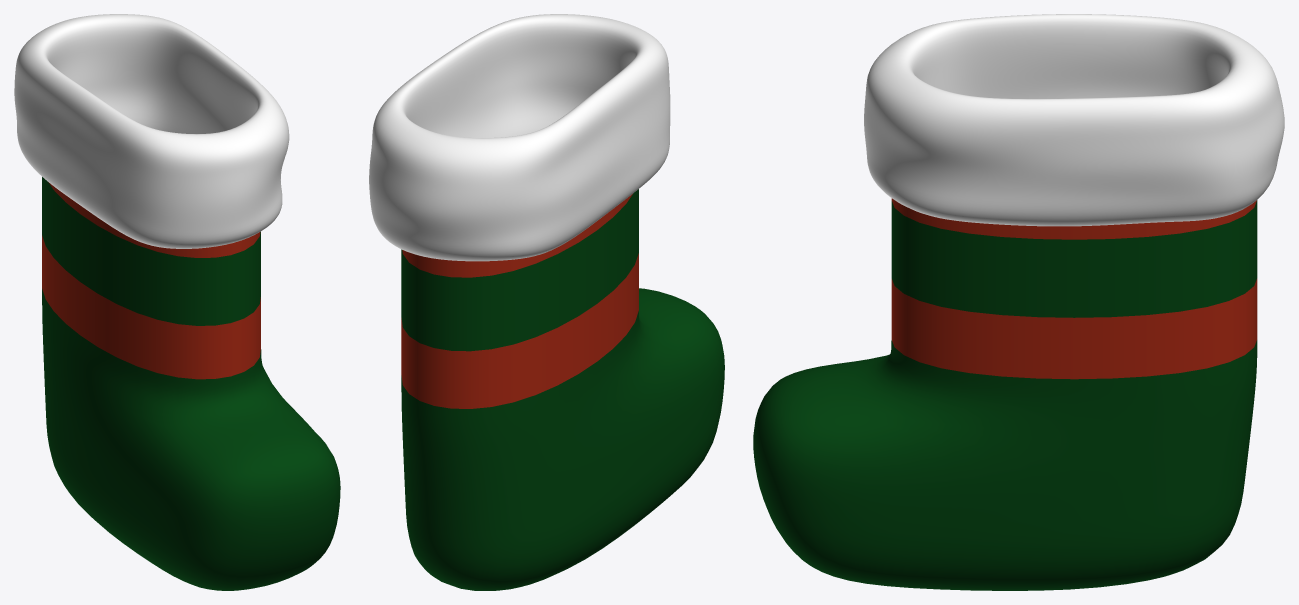
Rendered from Sock03.fbx.
3 renders of one model, left to right at view 1: azimuth 30°, elevation 25°; view 2: azimuth 150°, elevation 25°; view 3: azimuth 270°, elevation 25°, orthographic. The views are drawn at different scales.
Parts seen in each view (by area): view 1: Sock 03; view 2: Sock 03; view 3: Sock 03.
Part boxes in pixels (x1,y1,x2,y2): Sock 03: (14,14,340,590); Sock 03: (369,14,724,590); Sock 03: (753,14,1284,590).
Bounding box in the file's own units: 57.96 × 145 × 134.
